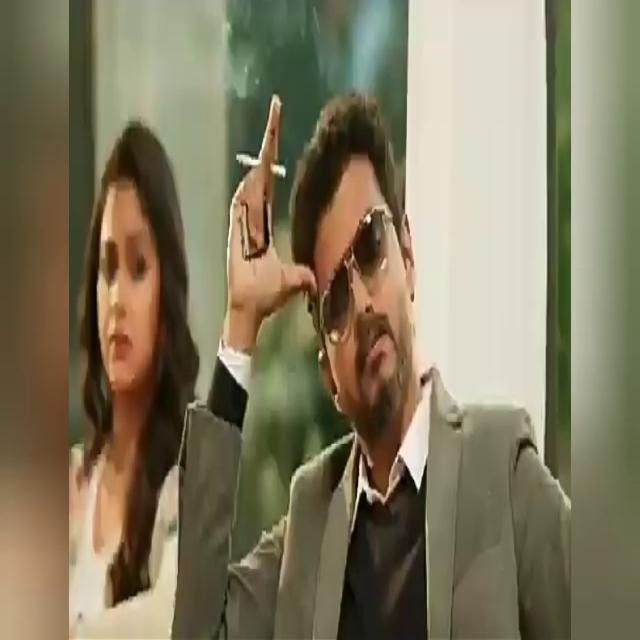smoking: (242, 77, 276, 284)
